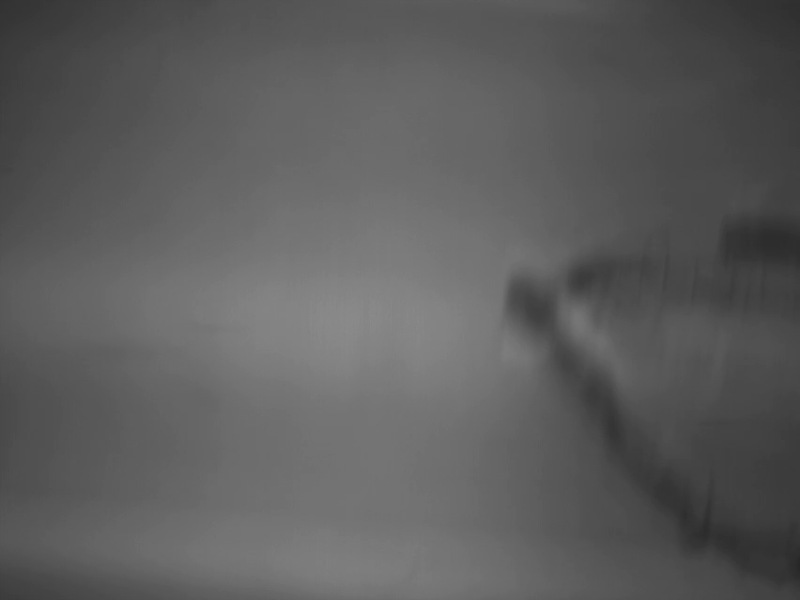fiber: (498, 210, 800, 590)
